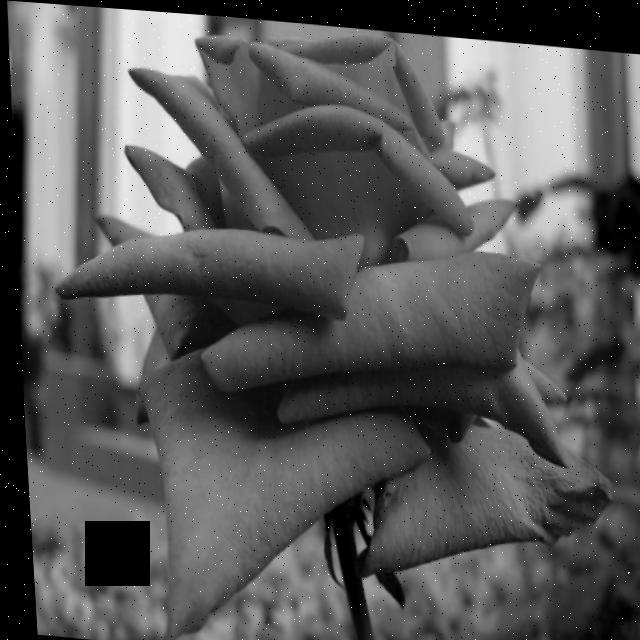rose: (1, 31, 630, 640), (555, 127, 640, 300)
